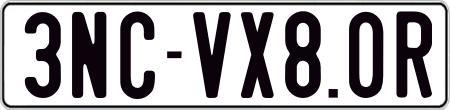0: (349, 10, 386, 99)
3: (25, 11, 63, 101)
8: (284, 11, 324, 98)
C: (118, 12, 153, 100)
N: (70, 11, 106, 97)
R: (393, 9, 429, 100)
V: (191, 9, 235, 95)
X: (238, 11, 272, 103)
